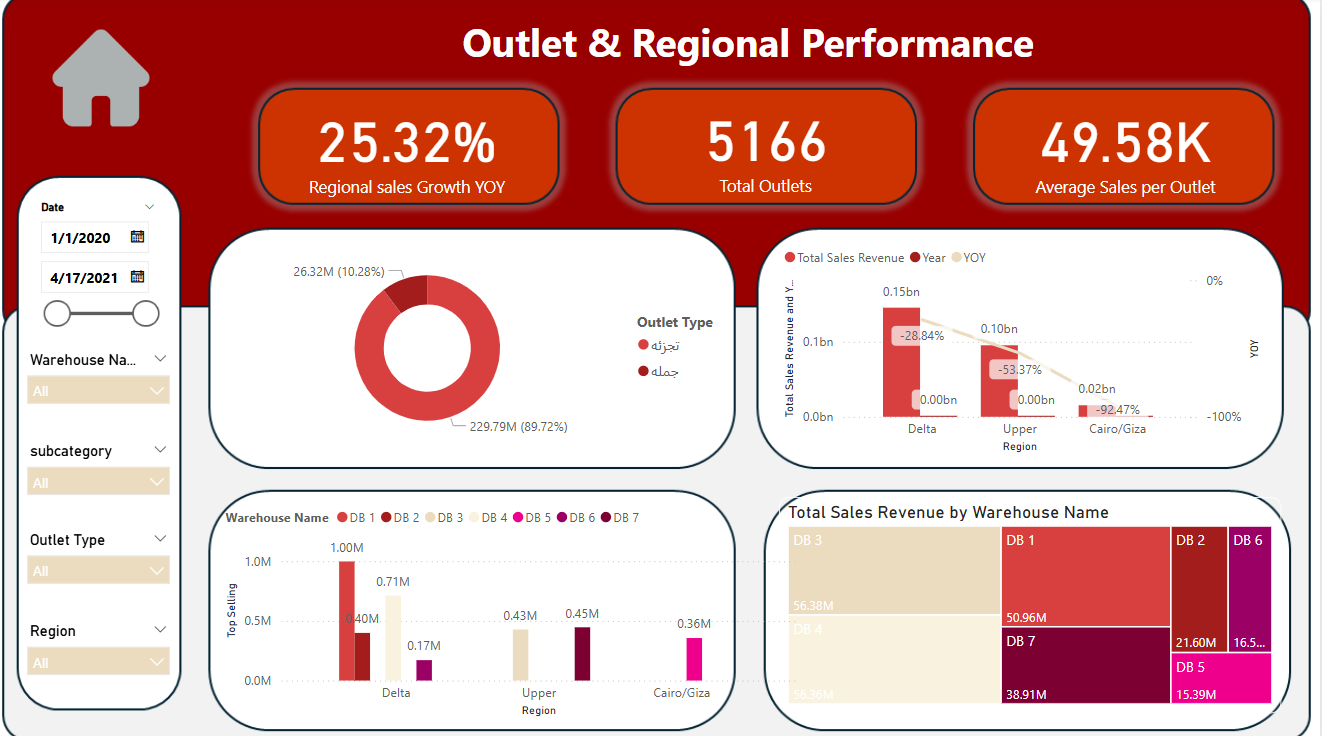

This screenshot's page, from the dashboard's own definition file:
{"tool":"powerbi","page":{"name":"Outlet & Regional Performance ","canvas":[1280,720],"ordinal":4},"visuals":[{"type":"treemap","fields":{"Values":["_Measures.Total Sales Revenue"],"Group":["Warehouses.Warehouse Name"]},"box":[757.6,482.6,485,208.7],"z":0},{"type":"lineClusteredColumnComboChart","fields":{"Y":["_Measures.Total Sales Revenue","Sum(Calender.Year)"],"Category":["Warehouses.Region"],"Y2":["_Measures.Regional sales Growth YOY"]},"box":[757.6,231.6,470.5,213.5],"z":1000},{"type":"clusteredColumnChart","fields":{"Category":["Warehouses.Region"],"Y":["_Measures.Top Selling"],"Series":["Warehouses.Warehouse Name"]},"box":[218.4,482.6,561,217.2],"z":2000},{"type":"donutChart","fields":{"Category":["Outlets.Outlet Type"],"Y":["_Measures.Total Sales Revenue"]},"box":[211.1,243.7,505.5,190.6],"z":3000},{"type":"card","fields":{"Values":["_Measures.Regional sales Growth YOY"]},"box":[248.5,86.9,300.4,114.6],"z":4000},{"type":"card","fields":{"Values":["_Measures.Total Outlets"]},"box":[594.8,78.4,300.4,130.3],"z":5000},{"type":"card","fields":{"Values":["_Measures.Average Sales per Outlet"]},"box":[904.8,86.9,375.2,114.6],"z":6000},{"type":"textbox","box":[437.9,13.3,589.9,73.6],"z":7000},{"type":"image","box":[8.4,26.1,189.4,103.8],"z":8000},{"type":"slicer","fields":{"Values":["Calender.Date"]},"box":[32.6,191.8,135.1,136.3],"z":10000},{"type":"slicer","fields":{"Values":["Warehouses.Warehouse Name"]},"box":[21.7,336.6,158,72.4],"z":11000},{"type":"slicer","fields":{"Values":["Products.subcategory"]},"box":[21.7,424.7,158,71.2],"z":12000},{"type":"slicer","fields":{"Values":["Outlets.Outlet Type"]},"box":[21.7,510.3,158,71.2],"z":13000},{"type":"slicer","fields":{"Values":["Warehouses.Region"]},"box":[21.7,598.4,158,72.4],"z":14000}]}

Visuals, with their boxes in screenshot pixels (x1, y1, x2, y2), scaled from the page's 1280x720 canvas onto the 1322x736 screenshot:
treemap - _Measures.Total Sales Revenue x Warehouses.Warehouse Name: region(782, 493, 1283, 707)
lineClusteredColumnComboChart - _Measures.Total Sales Revenue x Sum(Calender.Year): region(782, 237, 1268, 455)
clusteredColumnChart - Warehouses.Region x _Measures.Top Selling: region(226, 493, 805, 715)
donutChart - Outlets.Outlet Type x _Measures.Total Sales Revenue: region(218, 249, 740, 444)
card - _Measures.Regional sales Growth YOY: region(257, 89, 567, 206)
card - _Measures.Total Outlets: region(614, 80, 925, 213)
card - _Measures.Average Sales per Outlet: region(934, 89, 1321, 206)
textbox: region(452, 14, 1062, 89)
image: region(9, 27, 204, 133)
slicer - Calender.Date: region(34, 196, 173, 335)
slicer - Warehouses.Warehouse Name: region(22, 344, 186, 418)
slicer - Products.subcategory: region(22, 434, 186, 507)
slicer - Outlets.Outlet Type: region(22, 522, 186, 594)
slicer - Warehouses.Region: region(22, 612, 186, 686)
